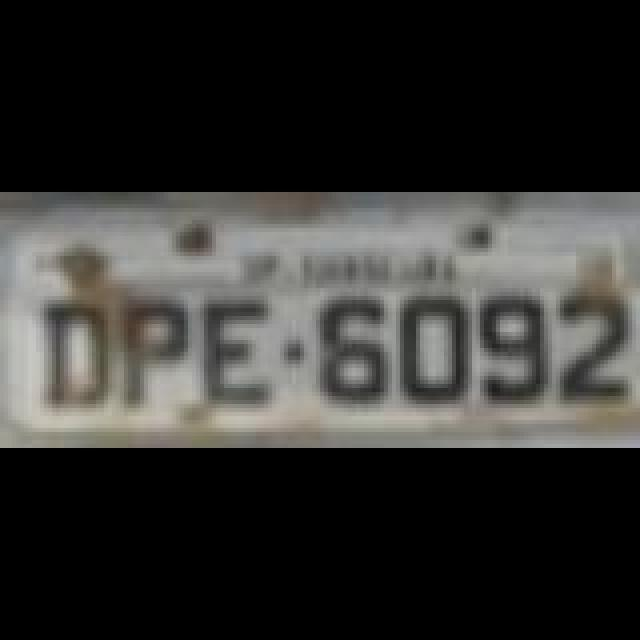2: (556, 286, 628, 402)
6: (314, 294, 390, 410)
9: (474, 288, 550, 408)
D: (40, 294, 112, 410)
E: (202, 294, 278, 410)
O: (394, 286, 470, 402)
P: (120, 296, 192, 416)
